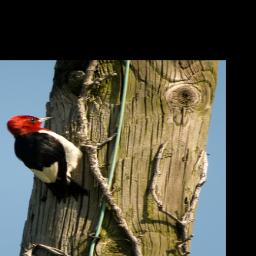Woodpecker: (5, 114, 103, 204)
